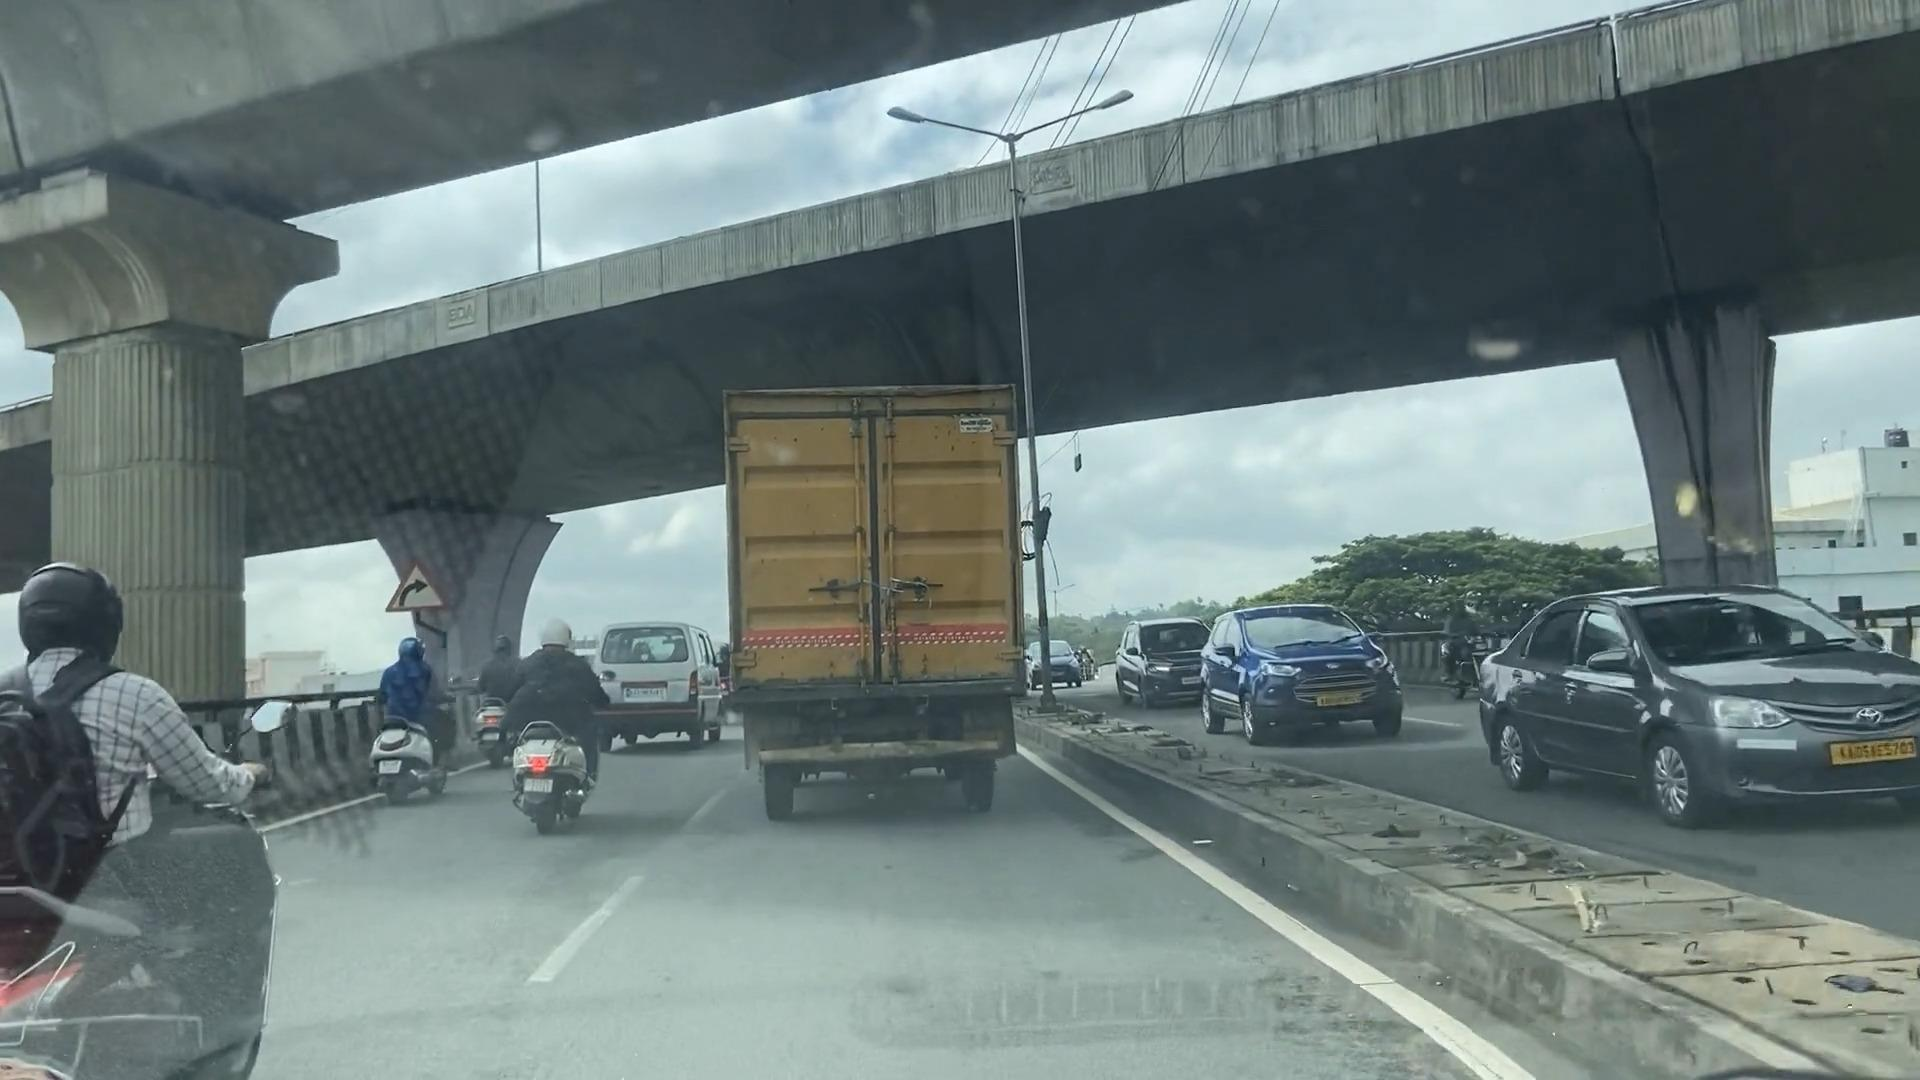HMV: (731, 390, 1027, 816)
LMV: (513, 624, 608, 837), (364, 640, 451, 795)
